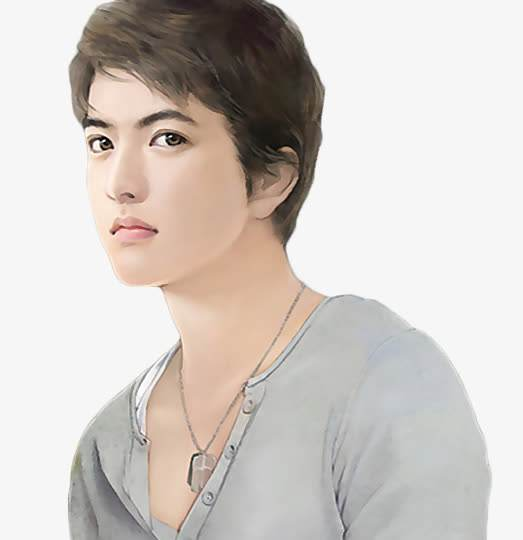person: (52, 14, 472, 476)
